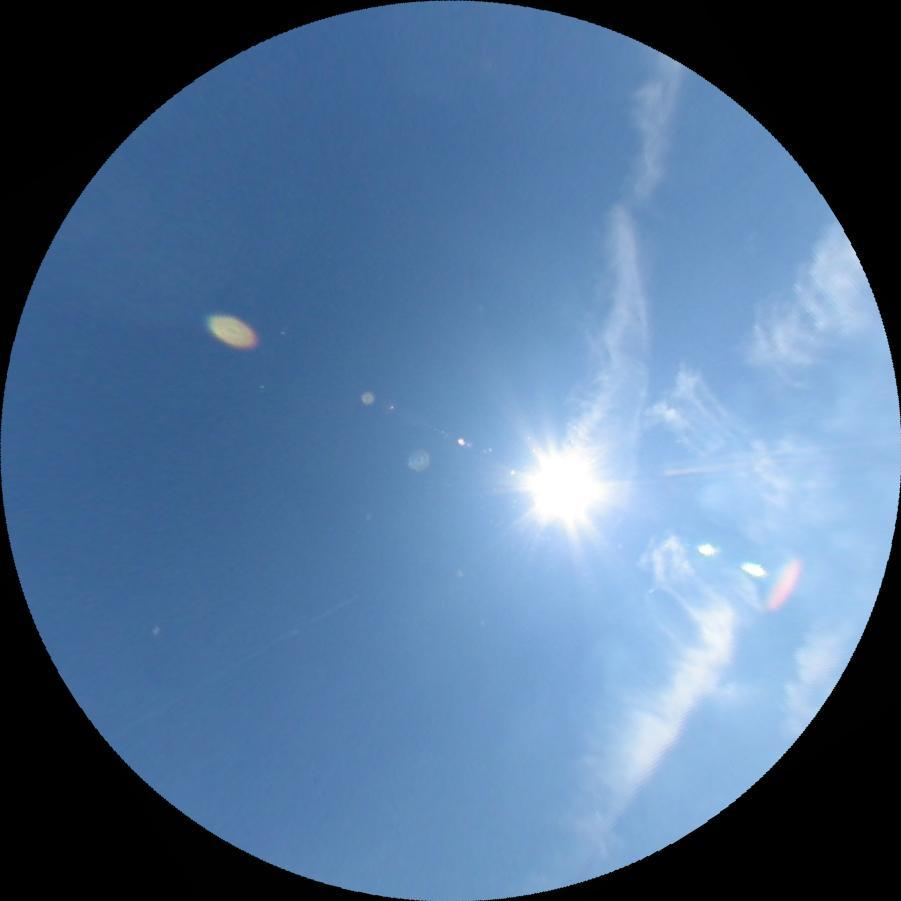contrail veryold: (553, 47, 700, 507)
parasite: (657, 448, 829, 478)
sun: (529, 455, 592, 515)
